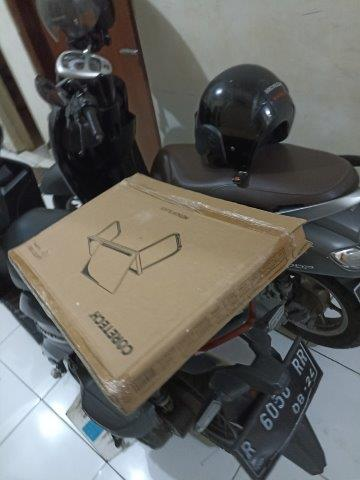kardus: (8, 176, 306, 413)
